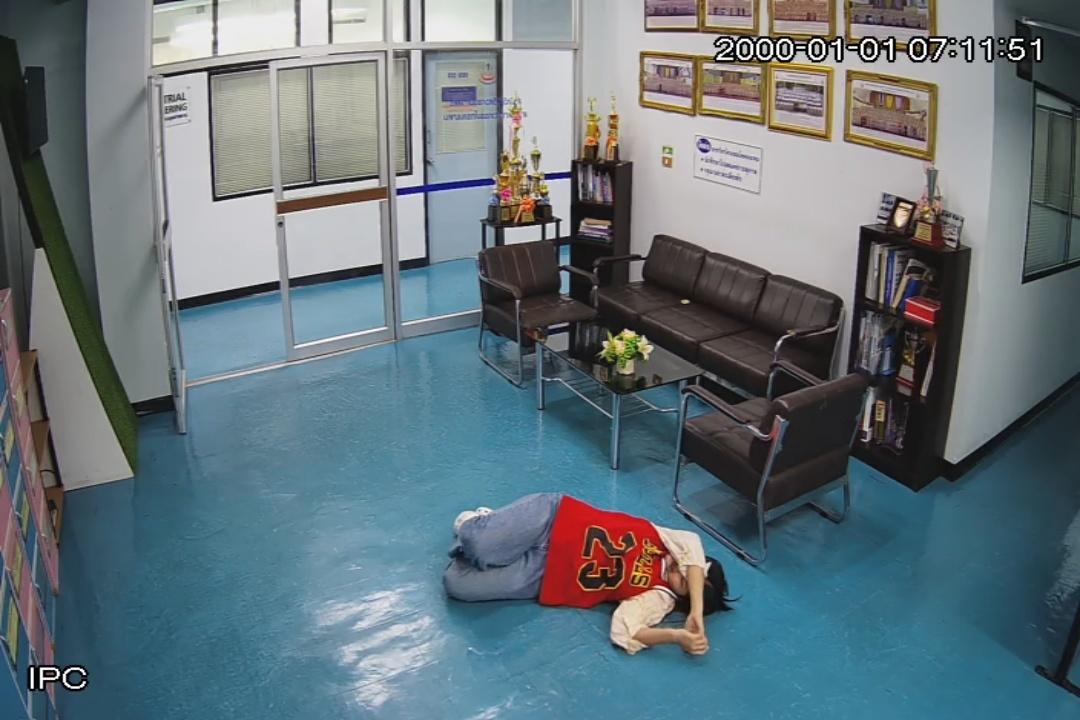fall: (440, 489, 726, 658)
